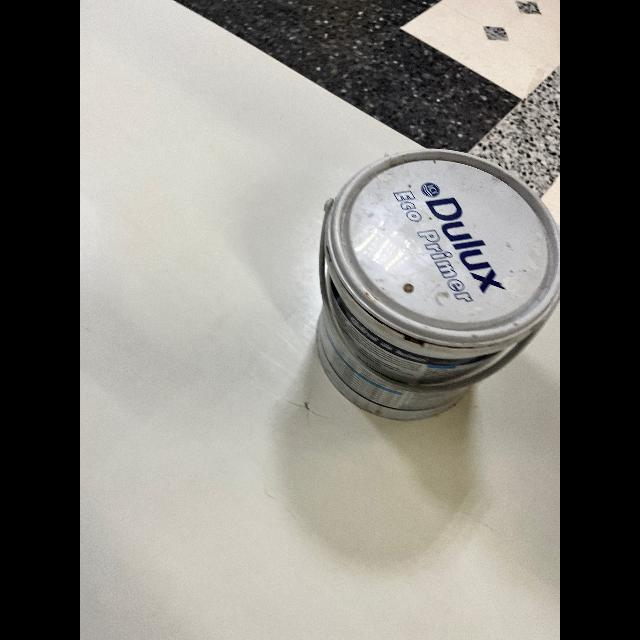paint_bucket: (308, 145, 560, 421)
